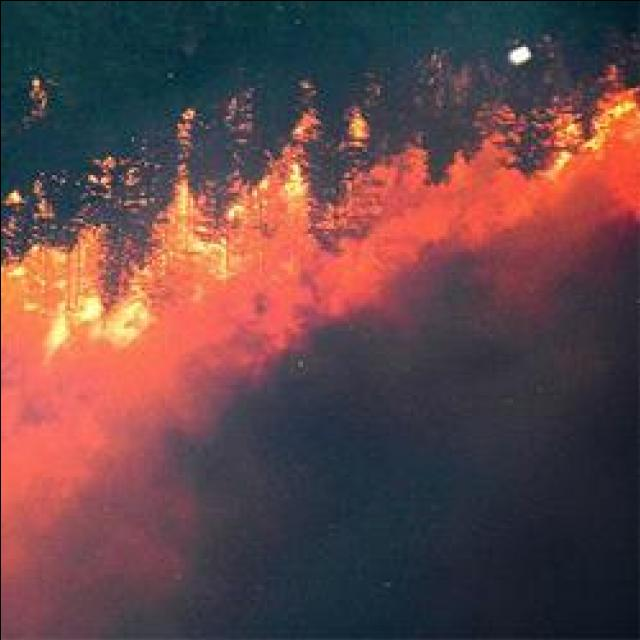fire: (40, 292, 157, 352), (580, 96, 640, 162)
smoke: (2, 358, 174, 578), (173, 264, 379, 338), (373, 183, 566, 256), (589, 154, 640, 248)
